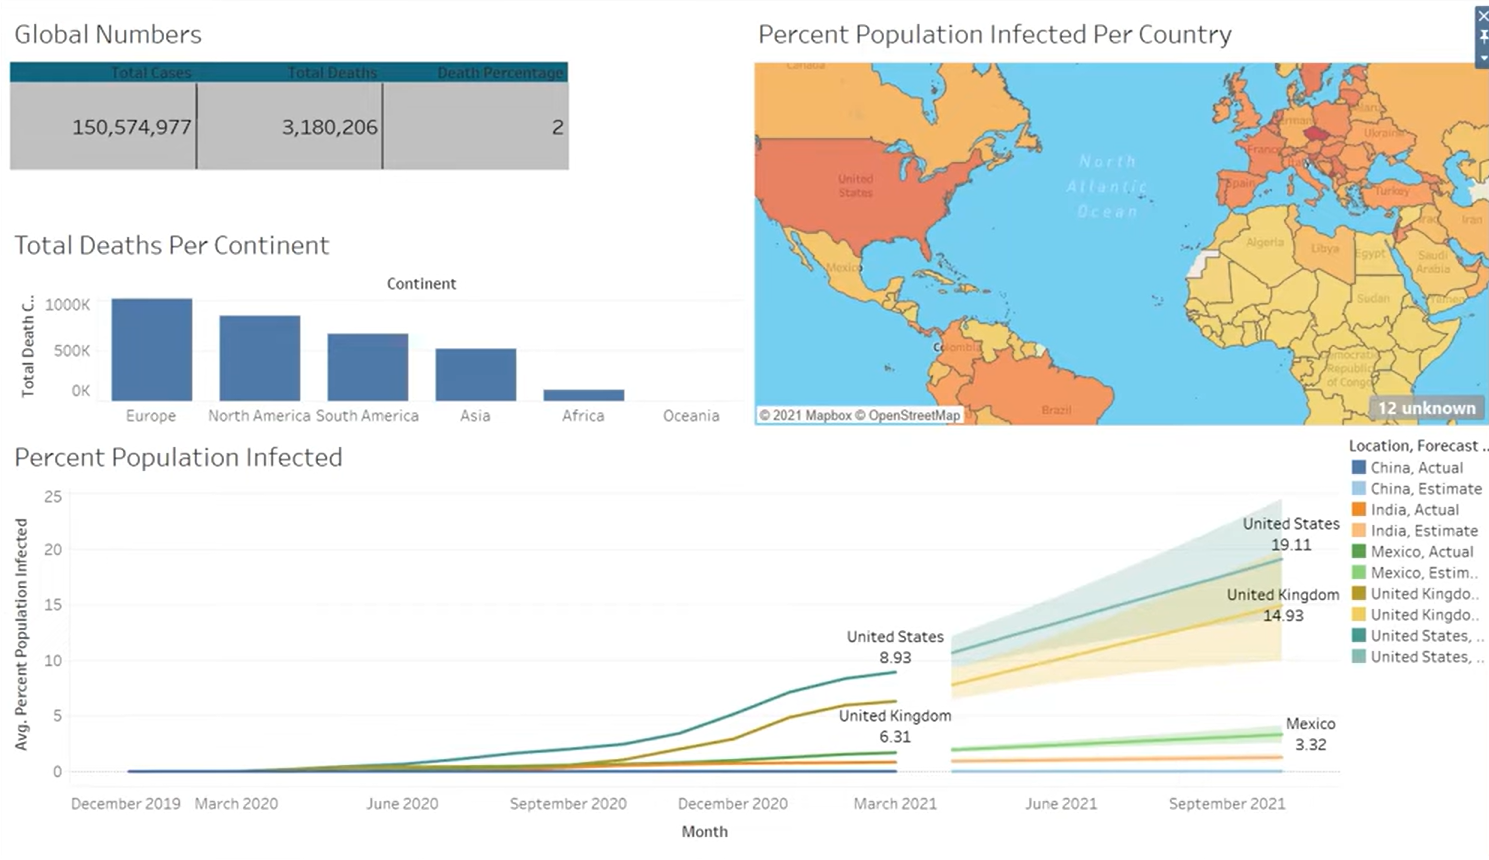

This screenshot's page, from the dashboard's own definition file:
{"tool":"tableau","page":{"name":"Dashboard 1","canvas":[1000,1000],"units":"permille","ordinal":0},"visuals":[{"type":"worksheet","title":"Sheet 1","mark":"Automatic","box":[4.8,9.3,449.3,245.3]},{"type":"worksheet","title":"Sheet 3","mark":"Automatic","box":[454.1,9.3,449.3,578.4]},{"type":"legend","title":"Sheet 3","param":"[federated.1u6pgzk0rhh873144wigi0cf6ax3].[sum:PercentPopulationInfected:qk]","box":[903.4,9.3,91.7,84.8]},{"type":"worksheet","title":"Sheet 2","mark":"Automatic","rows":["TotalDeathCount"],"cols":["location"],"box":[4.8,254.6,449.3,333.1]},{"type":"worksheet","title":"Sheet 4","mark":"Automatic","rows":["PercentPopulationInfected"],"cols":["date"],"box":[4.8,587.7,808,403]},{"type":"legend","title":"Sheet 4","param":"[federated.0fv2uox0hbhi61182v4641vh426j].[none:Location:nk]\n[federated.0fv2uox0h","box":[812.8,587.7,90.6,403]}]}

Visuals, with their boxes on the dashboard's canvas, which has no fixed pixel size, in thousandths of its width and height (x1, y1, x2, y2). These are canvas units, not pixel positions in the 1489x860 screenshot, which may show the page scaled, cropped or inside an application window:
"Sheet 1" worksheet: BBox(5, 9, 454, 255)
"Sheet 3" worksheet: BBox(454, 9, 903, 588)
"Sheet 3" legend: BBox(903, 9, 995, 94)
"Sheet 2" worksheet: BBox(5, 255, 454, 588)
"Sheet 4" worksheet: BBox(5, 588, 813, 991)
"Sheet 4" legend: BBox(813, 588, 903, 991)
